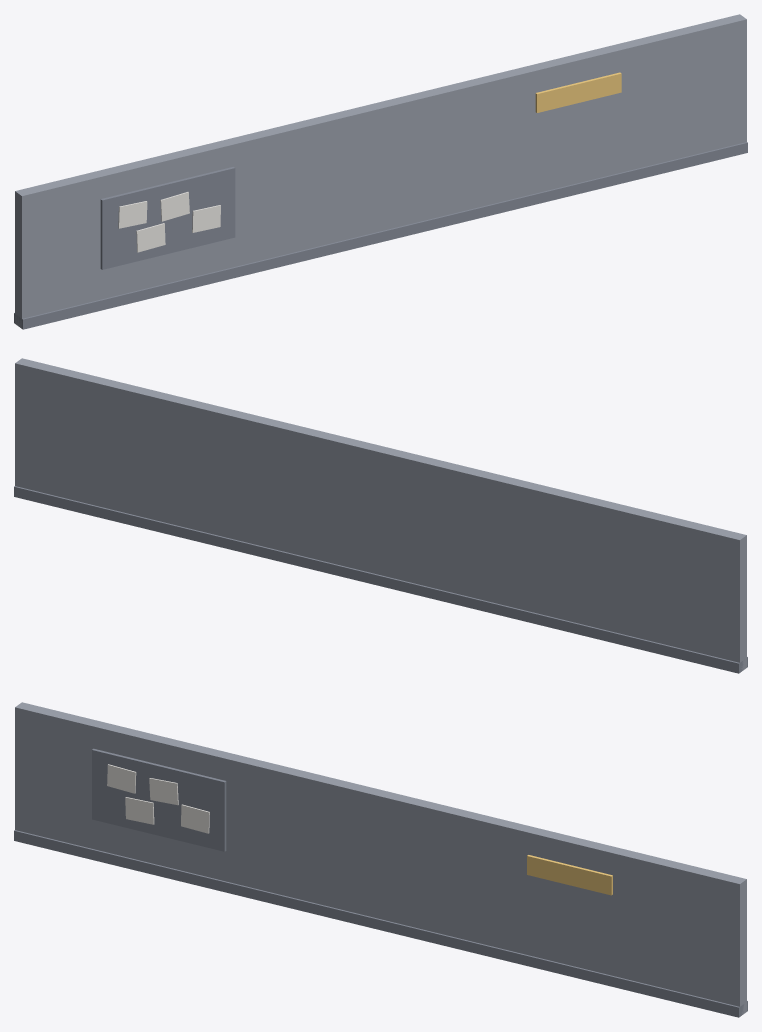
The model's file is welt_wand.glb.
The picture shows the model from 3 angles, top to bottom: view 1: azimuth 30°, elevation 25°; view 2: azimuth 150°, elevation 25°; view 3: azimuth 330°, elevation 25°; orthographic projection.
Parts seen in each view (by area): view 1: wand_flaeche, wand_sockel, brett, schild, aushang_3, aushang_0, aushang_1, aushang_2; view 2: wand_flaeche, wand_sockel; view 3: wand_flaeche, wand_sockel, brett, schild, aushang_3, aushang_0, aushang_1, aushang_2.
Boxes of the visible parts, bbox=[...] form: wand_flaeche: bbox=[15, 14, 746, 328]; wand_sockel: bbox=[14, 142, 747, 329]; brett: bbox=[100, 167, 235, 269]; schild: bbox=[535, 72, 621, 112]; aushang_3: bbox=[136, 223, 165, 252]; aushang_0: bbox=[118, 201, 147, 228]; aushang_1: bbox=[160, 192, 189, 221]; aushang_2: bbox=[192, 205, 220, 232]; wand_flaeche: bbox=[15, 358, 746, 671]; wand_sockel: bbox=[14, 486, 747, 673]; wand_flaeche: bbox=[15, 702, 746, 1014]; wand_sockel: bbox=[14, 830, 747, 1017]; brett: bbox=[92, 748, 226, 851]; schild: bbox=[527, 855, 612, 895]; aushang_3: bbox=[125, 797, 154, 824]; aushang_0: bbox=[107, 764, 136, 793]; aushang_1: bbox=[149, 778, 178, 805]; aushang_2: bbox=[181, 804, 209, 833].
Bounding box in the file's own units: 12 × 2.1 × 0.3.
